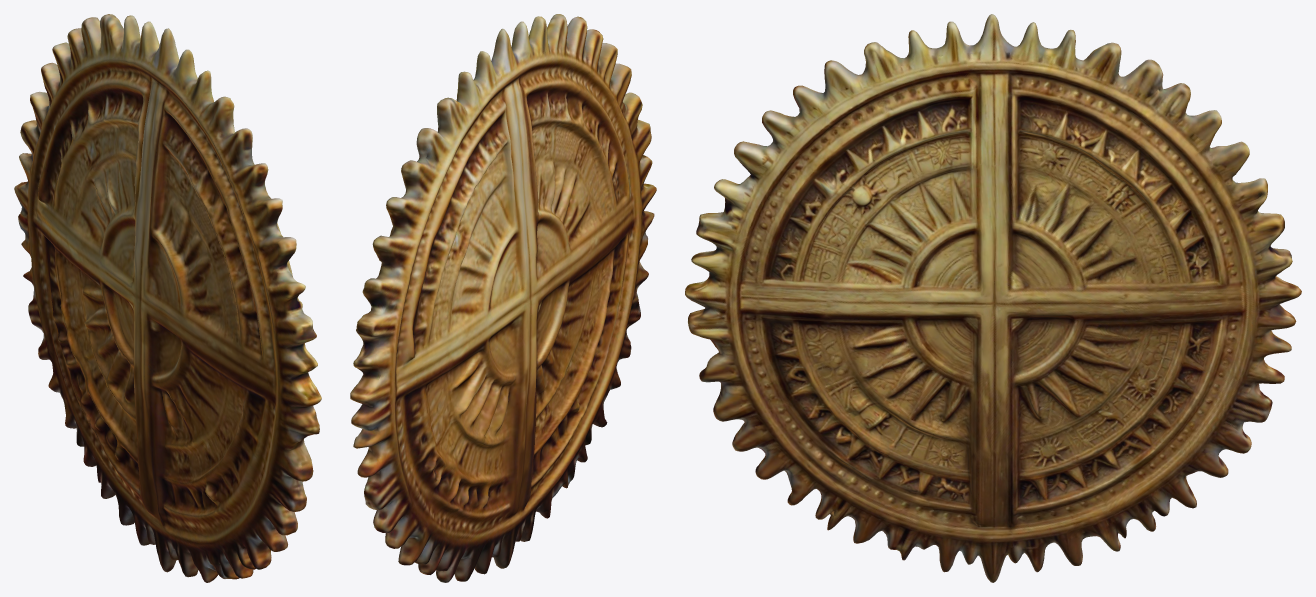
Rendered from sun_cross_3d.glb.
3 views of the same model, side by side, from view 1: azimuth 30°, elevation 25°; view 2: azimuth 150°, elevation 25°; view 3: azimuth 270°, elevation 25° (orthographic). The views are drawn at different scales.
Visible parts, largest first — view 1: tripo_node_38dc38ee-36b1-44f7-8ad1-e3048406e8e6; view 2: tripo_node_38dc38ee-36b1-44f7-8ad1-e3048406e8e6; view 3: tripo_node_38dc38ee-36b1-44f7-8ad1-e3048406e8e6.
Boxes of the visible parts, x1=… form: tripo_node_38dc38ee-36b1-44f7-8ad1-e3048406e8e6: x1=14, y1=14, x2=321, y2=582; tripo_node_38dc38ee-36b1-44f7-8ad1-e3048406e8e6: x1=350, y1=14, x2=656, y2=582; tripo_node_38dc38ee-36b1-44f7-8ad1-e3048406e8e6: x1=685, y1=14, x2=1301, y2=582.
Bounding box in the file's own units: 0.0865 × 0.7762 × 0.7641.
1 material, 1 textured.
